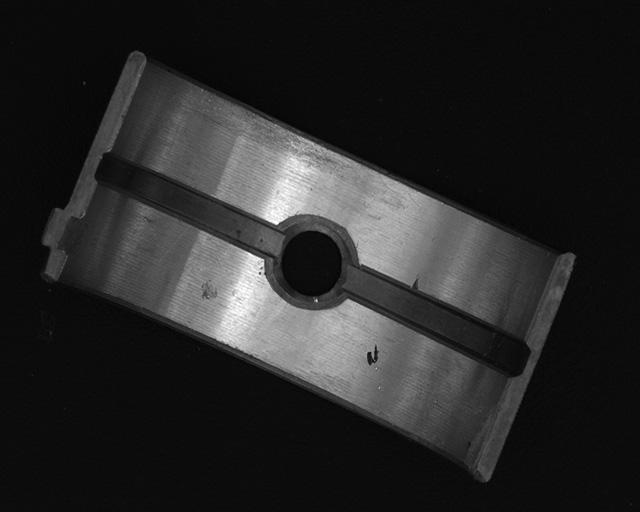blot: (365, 342, 379, 367)
bruise: (201, 279, 219, 301), (410, 276, 420, 291)
gap: (344, 266, 524, 374), (99, 153, 282, 252)
hole: (270, 216, 353, 308)
scratch: (179, 83, 366, 176)
